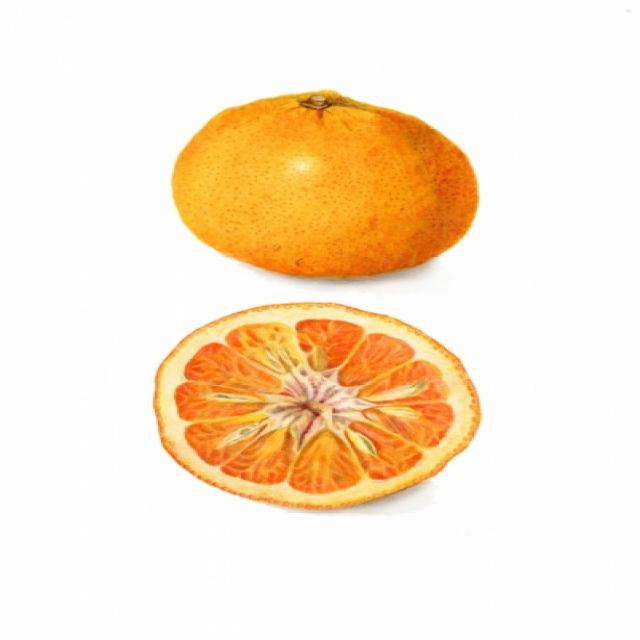orange: (147, 297, 483, 516), (162, 83, 490, 280)
